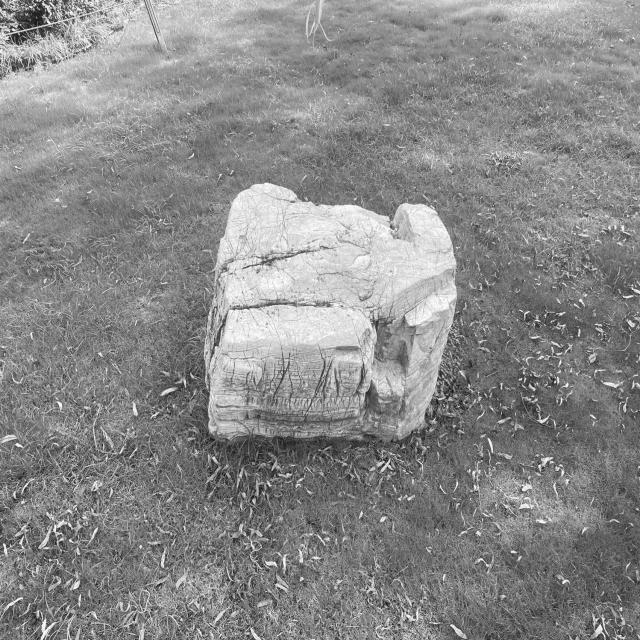Stone: (205, 184, 455, 439)
